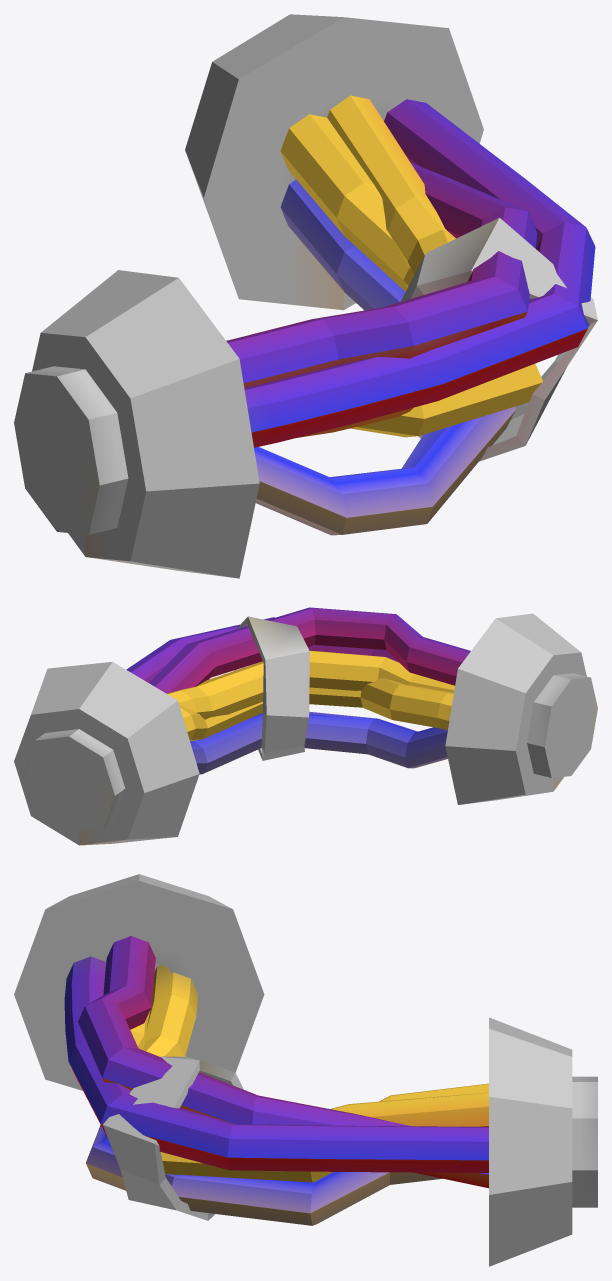
Rendered from cable_bend3_h.fbx.
3 renders of one model, top to bottom at view 1: azimuth 30°, elevation 25°; view 2: azimuth 150°, elevation 25°; view 3: azimuth 270°, elevation 25°, orthographic. The views are drawn at different scales.
Visible parts, largest first — view 1: cable_bend3; view 2: cable_bend3; view 3: cable_bend3.
Boxes of the visible parts, x1,y1,x2,y2 form: cable_bend3: [14, 14, 597, 578]; cable_bend3: [14, 607, 597, 845]; cable_bend3: [14, 874, 597, 1266].
Bounding box in the file's own units: 0.6521 × 0.2798 × 0.6524.
